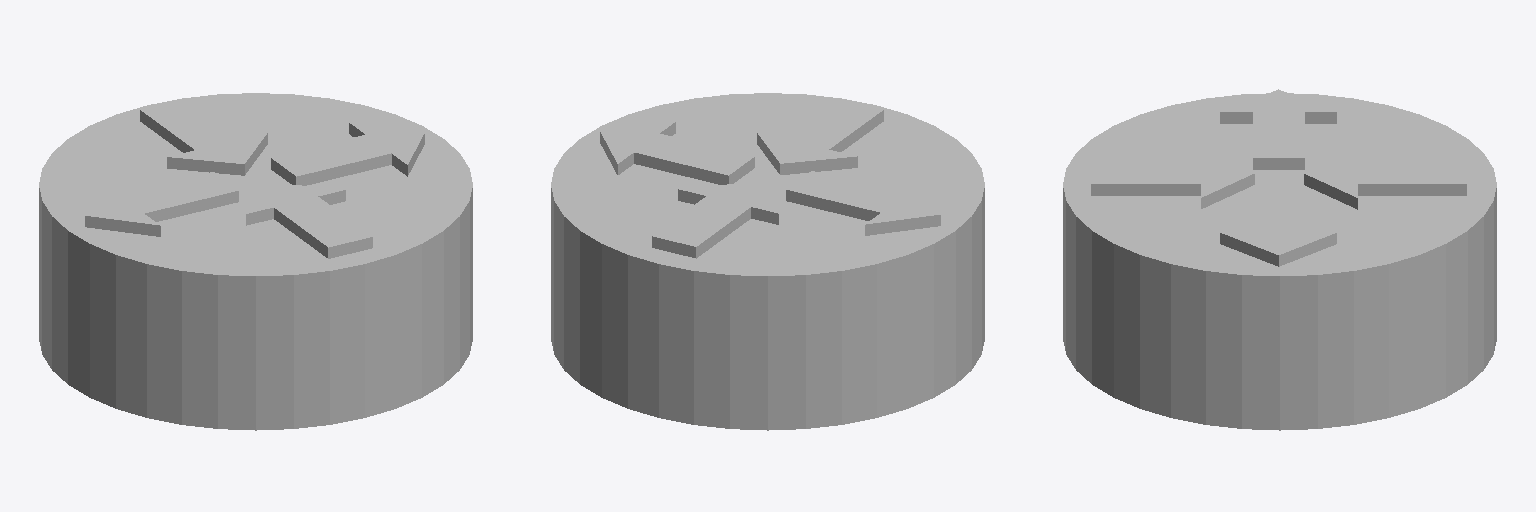
File: hexinluyouqi.obj
3 renders of one model, left to right at view 1: azimuth 30°, elevation 25°; view 2: azimuth 150°, elevation 25°; view 3: azimuth 270°, elevation 25°, orthographic.
Visible parts, largest first — view 1: hexinluyouqi; view 2: hexinluyouqi; view 3: hexinluyouqi.
Boxes of the visible parts, x1=… form: hexinluyouqi: x1=39, y1=93, x2=472, y2=430; hexinluyouqi: x1=551, y1=93, x2=984, y2=430; hexinluyouqi: x1=1063, y1=89, x2=1496, y2=430.
Bounding box in the file's own units: 59.71 × 25.12 × 59.71.